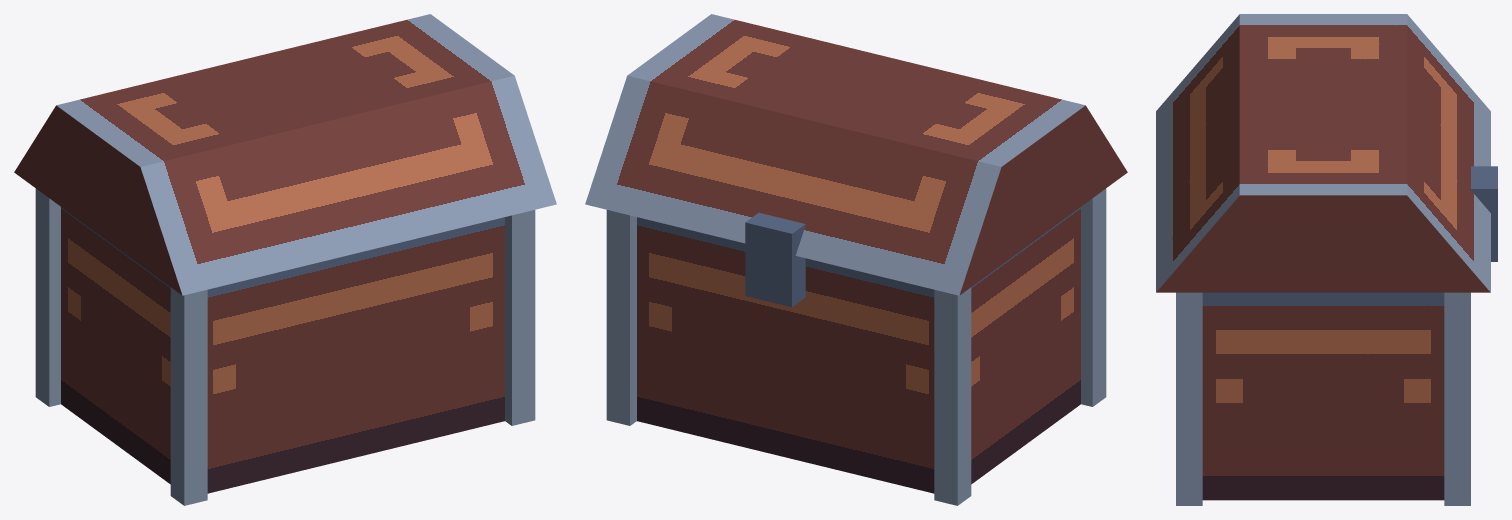
Rendered from NormalBox.gltf.
3 views of the same model, side by side, from view 1: azimuth 30°, elevation 25°; view 2: azimuth 150°, elevation 25°; view 3: azimuth 270°, elevation 25° (orthographic).
Visible parts, largest first — view 1: Body, cube; view 2: Body, cube; view 3: cube, Body.
Part boxes in pixels (x1=…): Body: x1=35, y1=188, x2=535, y2=505; cube: x1=14, y1=14, x2=556, y2=295; Body: x1=606, y1=188, x2=1106, y2=505; cube: x1=585, y1=14, x2=1127, y2=307; cube: x1=1156, y1=14, x2=1497, y2=292; Body: x1=1176, y1=292, x2=1470, y2=505.
Bounding box in the file's own units: 1 × 0.8125 × 0.7961.
1 material, 1 textured.
